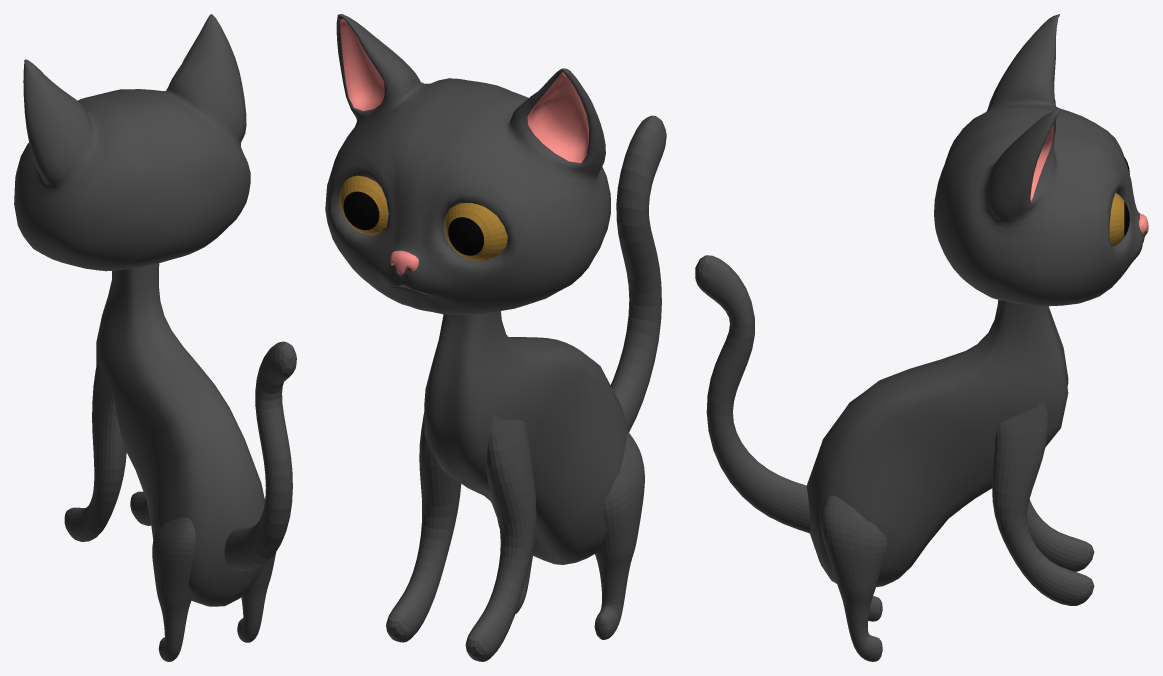
Rendered from shadow_02.fbx.
The picture shows the model from 3 angles, left to right: view 1: azimuth 30°, elevation 25°; view 2: azimuth 150°, elevation 25°; view 3: azimuth 270°, elevation 25°; orthographic projection. The views are drawn at different scales.
Parts seen in each view (by area): view 1: body, head; view 2: body, head, eye; view 3: body, head, eye.
Part boxes in pixels (left/top/right/bottom): body: left=64, top=263, right=296, bottom=661; head: left=14, top=14, right=250, bottom=271; body: left=386, top=115, right=666, bottom=661; head: left=325, top=14, right=610, bottom=314; eye: left=339, top=175, right=507, bottom=260; body: left=695, top=255, right=1094, bottom=661; head: left=934, top=14, right=1148, bottom=306; eye: left=1109, top=156, right=1129, bottom=246.
Bounding box in the file's own units: 170 × 422 × 299.
